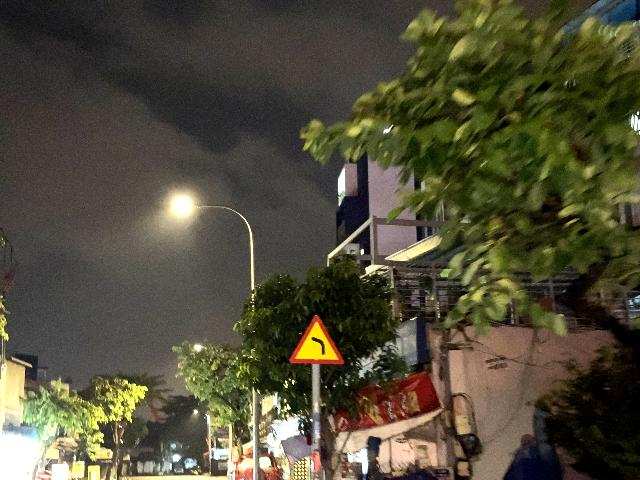cho-ngoat-nguy-hiem-ben-trai: (289, 315, 344, 364)
